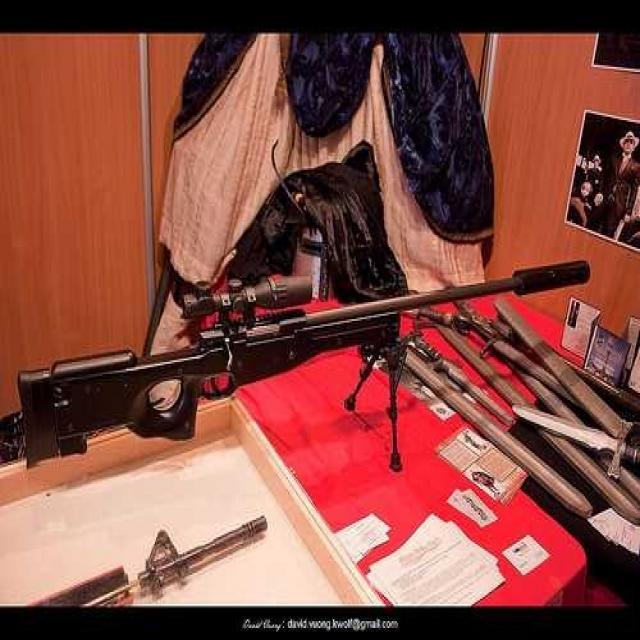weapon: (15, 222, 593, 492)
